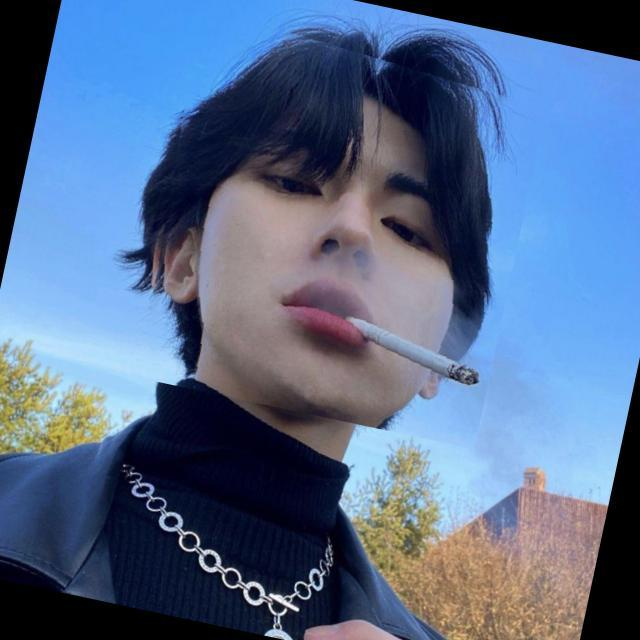cigarette: (326, 274, 494, 372)
